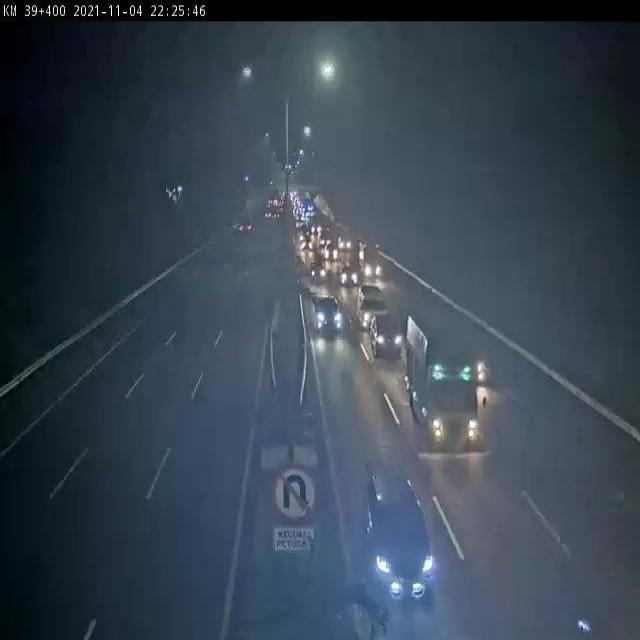car: (355, 446, 453, 626), (369, 302, 408, 374), (312, 287, 350, 353)
truck-m-: (406, 314, 479, 466)
truck-s-: (471, 350, 503, 414)
